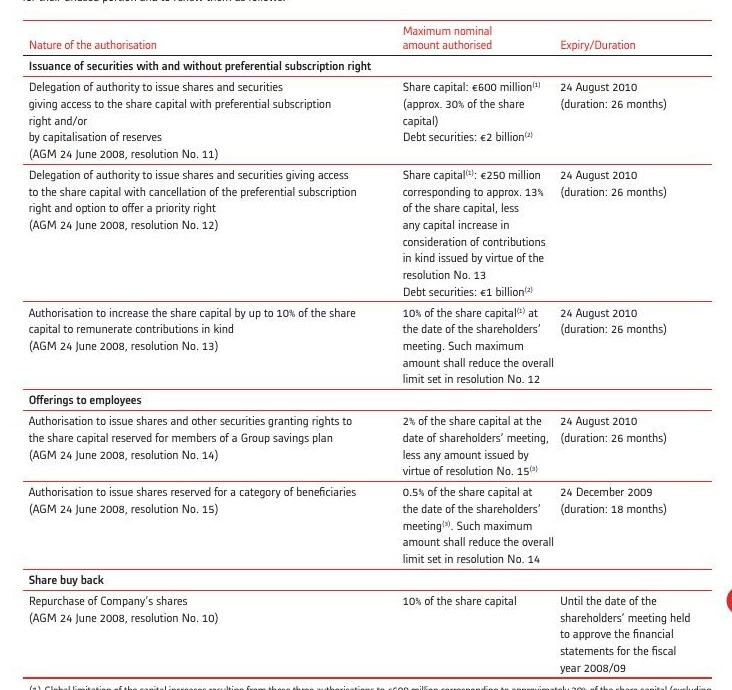table: (0, 0, 732, 690)
